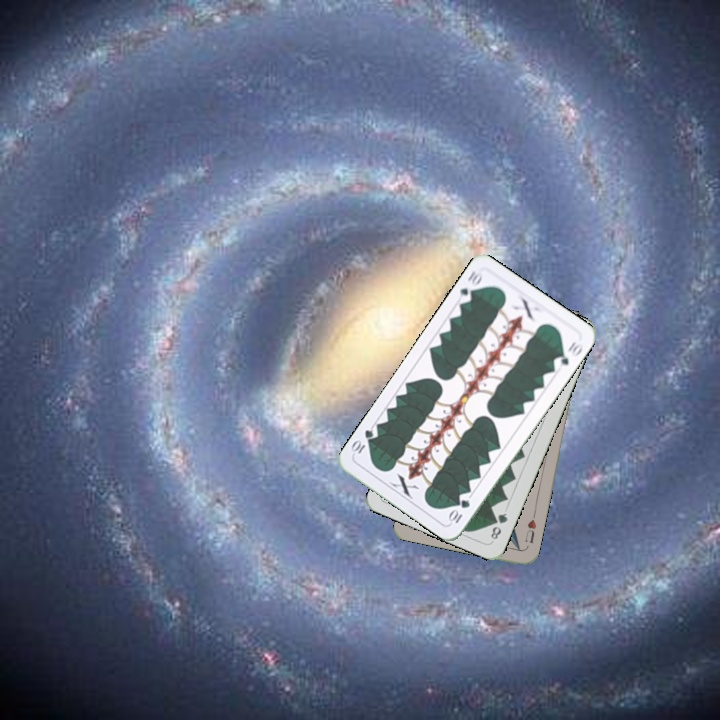G10: (454, 266, 485, 306), (445, 495, 473, 527)
G8: (487, 509, 510, 543)
HU: (521, 516, 539, 546)
